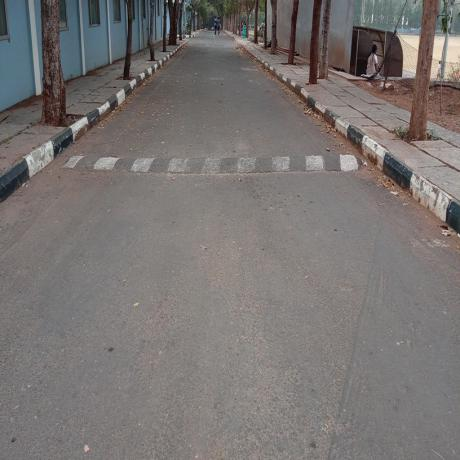Speed Bump: (60, 146, 365, 184)
